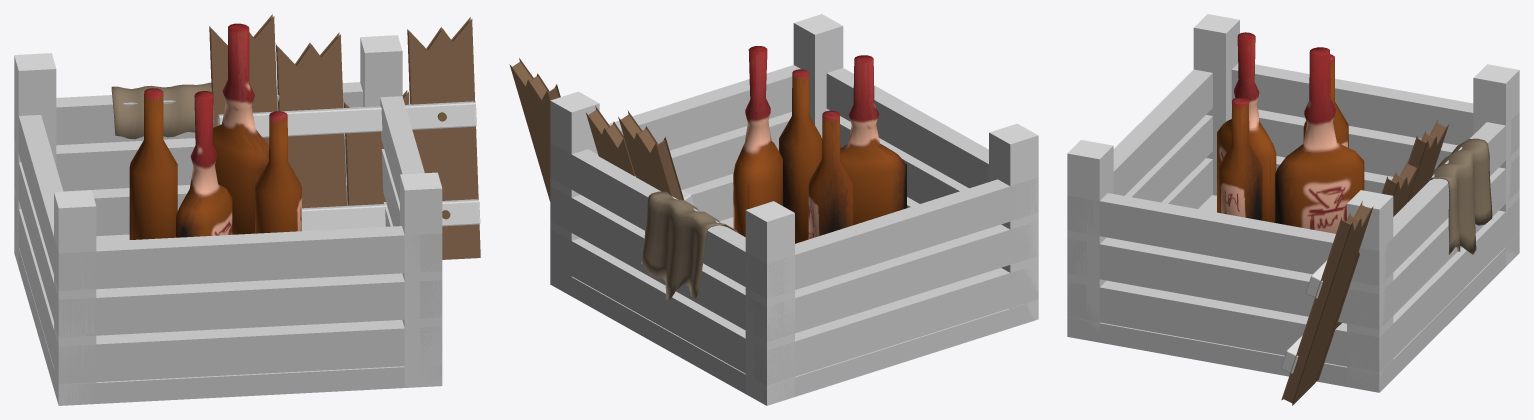
Rendered from BilliardReturnCase.fbx.
3 views of the same model, side by side, from view 1: azimuth 30°, elevation 25°; view 2: azimuth 150°, elevation 25°; view 3: azimuth 270°, elevation 25° (orthographic). The views are drawn at different scales.
Visible parts, largest first — view 1: Part_BilliardReturnCase, Part_LooseLidBoard.003, Part_LooseLidBoard.001, Part_BilliardReturnBottle.002, Part_BilliardReturnBottle.003, Part_LidCrossbatten.001, Part_BilliardReturnBottle, Part_BilliardReturnBottle.001, Part_LooseLidBoard, Part_BottlePackingRag, Part_LidCrossbatten, Part_LooseLidBoard.002; view 2: Part_BilliardReturnCase, Part_BilliardReturnBottle, Part_BottlePackingRag, Part_BilliardReturnBottle.002, Part_BilliardReturnBottle.001, Part_BilliardReturnBottle.003, Part_LooseLidBoard.003, Part_LooseLidBoard, Part_LooseLidBoard.001; view 3: Part_BilliardReturnCase, Part_BilliardReturnBottle.002, Part_LooseLidBoard.003, Part_BottlePackingRag, Part_BilliardReturnBottle.001, Part_BilliardReturnBottle, Part_LooseLidBoard, Part_LooseLidBoard.001, Part_BilliardReturnBottle.003.
Part boxes in pixels (x1,y1,x2,y2): Part_BilliardReturnCase: [14, 35, 442, 405]; Part_LooseLidBoard.003: [407, 17, 480, 259]; Part_LooseLidBoard.001: [276, 32, 346, 208]; Part_BilliardReturnBottle.002: [212, 23, 269, 234]; Part_BilliardReturnBottle.003: [129, 88, 177, 239]; Part_LidCrossbatten.001: [217, 101, 476, 137]; Part_BilliardReturnBottle: [176, 91, 232, 237]; Part_BilliardReturnBottle.001: [255, 111, 301, 233]; Part_LooseLidBoard: [209, 14, 277, 144]; Part_BottlePackingRag: [111, 82, 217, 139]; Part_LidCrossbatten: [302, 199, 480, 231]; Part_LooseLidBoard.002: [344, 90, 409, 205]; Part_BilliardReturnCase: [550, 14, 1038, 405]; Part_BilliardReturnBottle: [840, 55, 906, 224]; Part_BottlePackingRag: [641, 191, 738, 299]; Part_BilliardReturnBottle.002: [733, 46, 782, 236]; Part_BilliardReturnBottle.001: [779, 69, 822, 243]; Part_BilliardReturnBottle.003: [808, 110, 853, 239]; Part_LooseLidBoard.003: [509, 58, 560, 201]; Part_LooseLidBoard: [618, 110, 683, 200]; Part_LooseLidBoard.001: [586, 106, 635, 176]; Part_BilliardReturnCase: [1067, 14, 1519, 392]; Part_BilliardReturnBottle.002: [1275, 47, 1364, 233]; Part_LooseLidBoard.003: [1281, 201, 1373, 405]; Part_BottlePackingRag: [1429, 138, 1492, 254]; Part_BilliardReturnBottle.001: [1218, 97, 1262, 220]; Part_BilliardReturnBottle: [1217, 32, 1276, 222]; Part_LooseLidBoard: [1407, 119, 1448, 202]; Part_LooseLidBoard.001: [1381, 159, 1419, 216]; Part_BilliardReturnBottle.003: [1303, 54, 1348, 147].
Bounding box in the file's own units: 1.29 × 0.6904 × 1.11.
